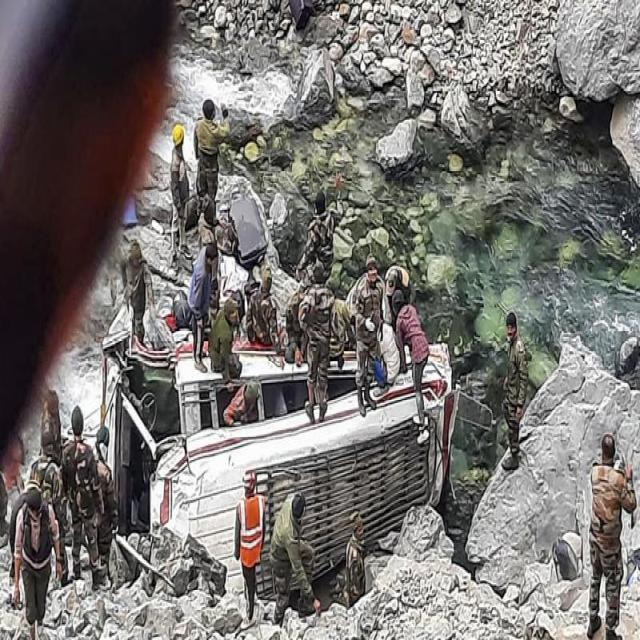accident: (102, 306, 460, 587)
